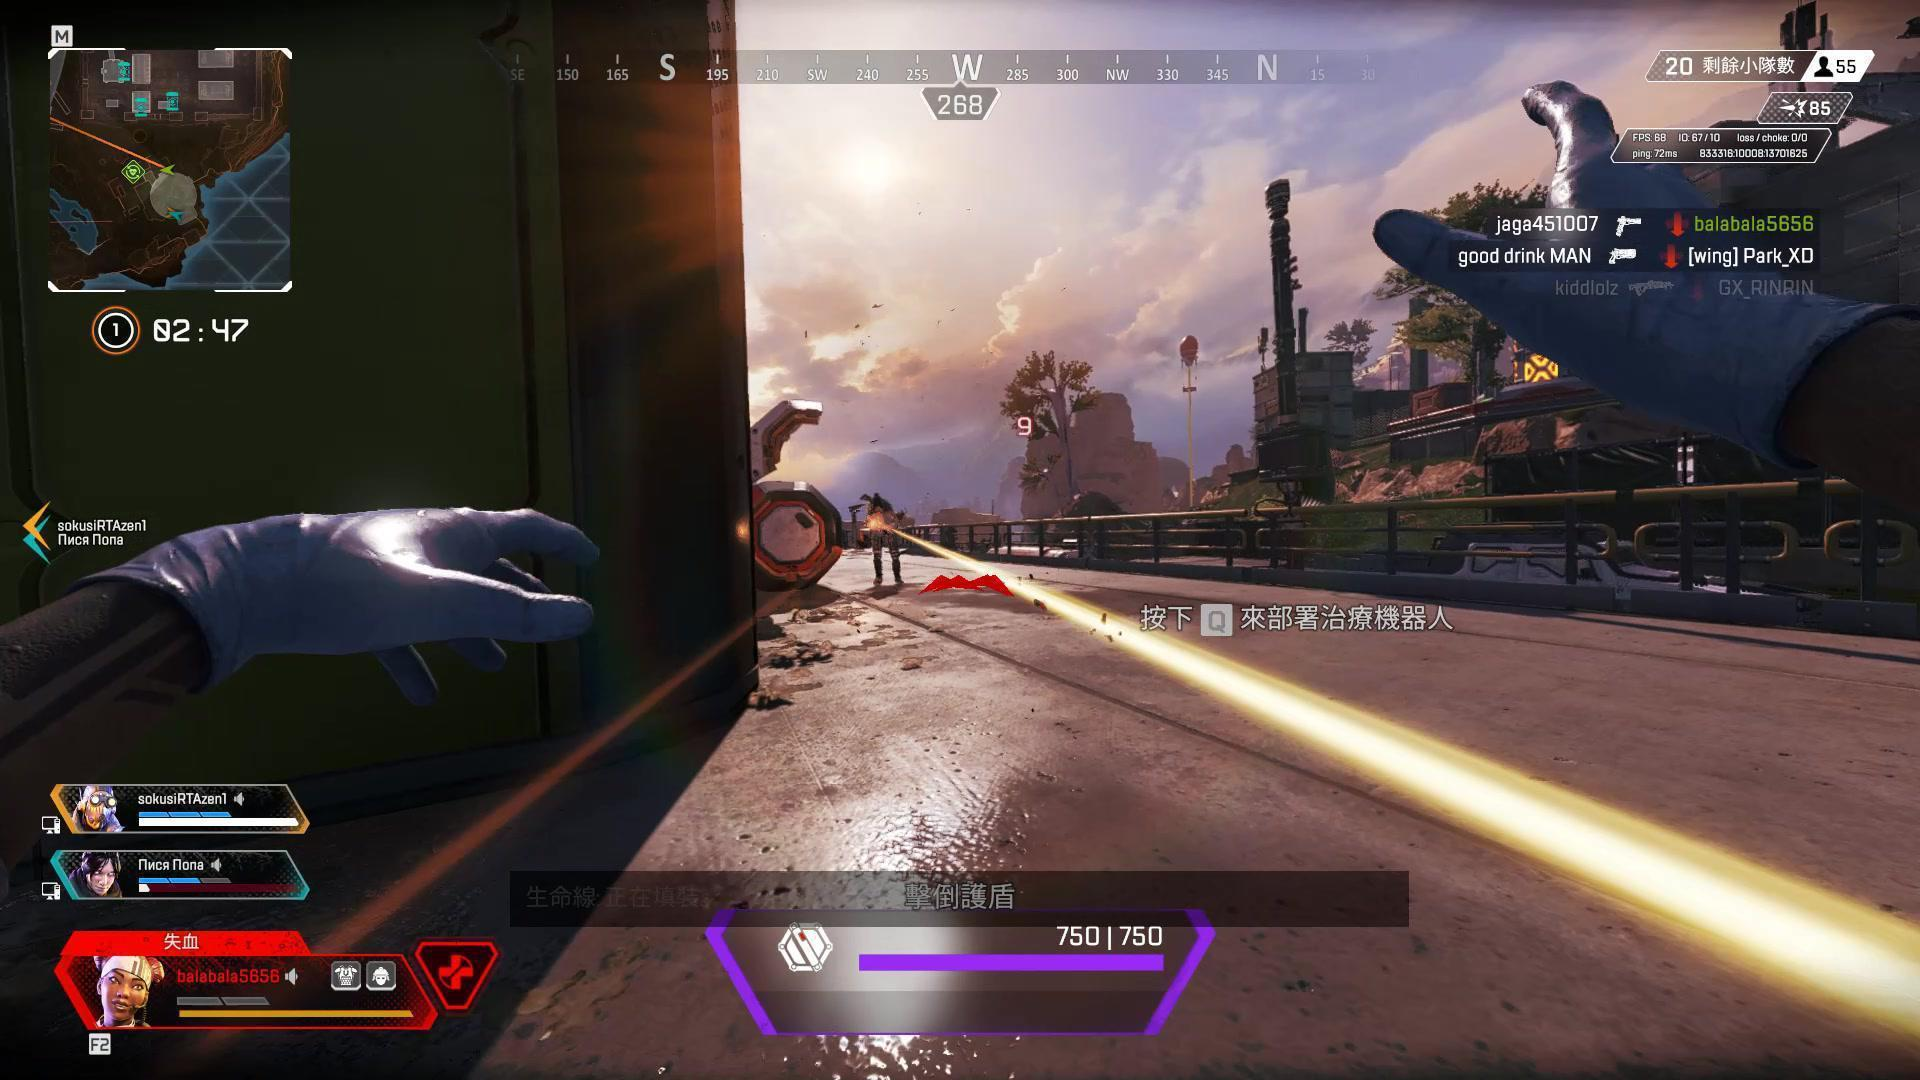avatar: (866, 493, 905, 591)
